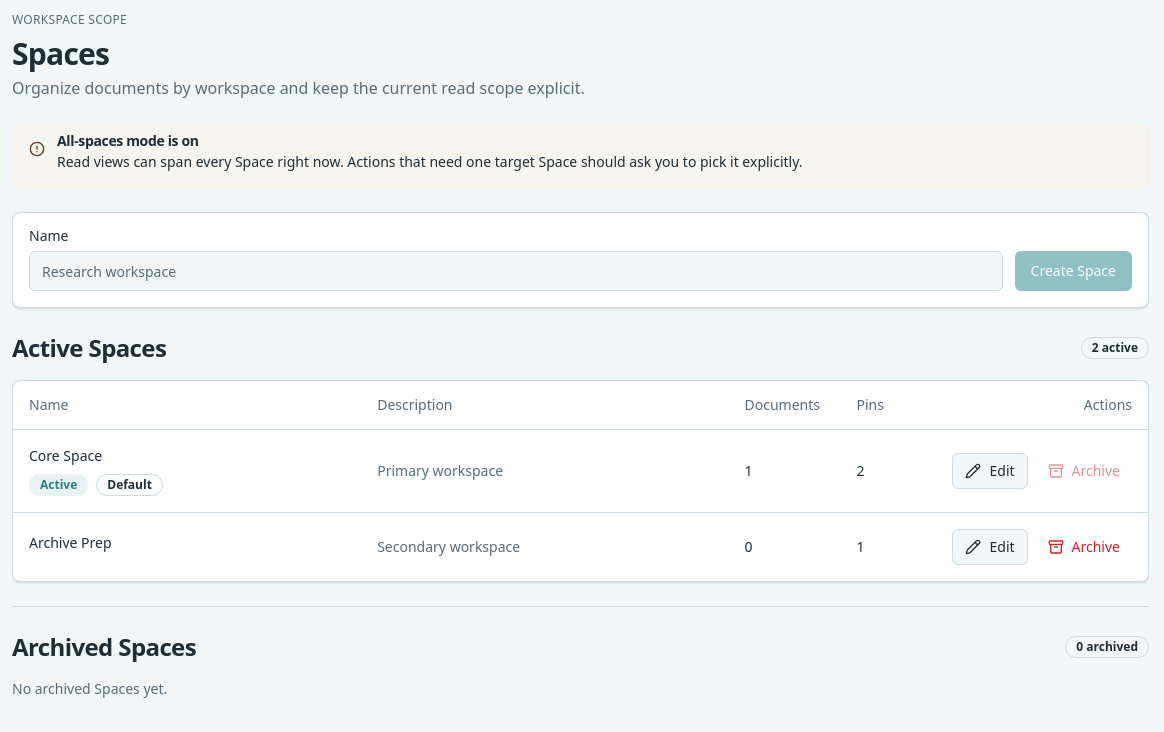
Test: SpacesPage › creates a Space from the inline name-only form and renders active Spaces as a table
Check: the heading "All-spaces mode is on" is shown, box [57,131,199,150]
Check: the text "Core Space" is shown, box [29,446,102,464]
In the field labelled "Name": (516,271) [29,251,1002,291], type "New Space"
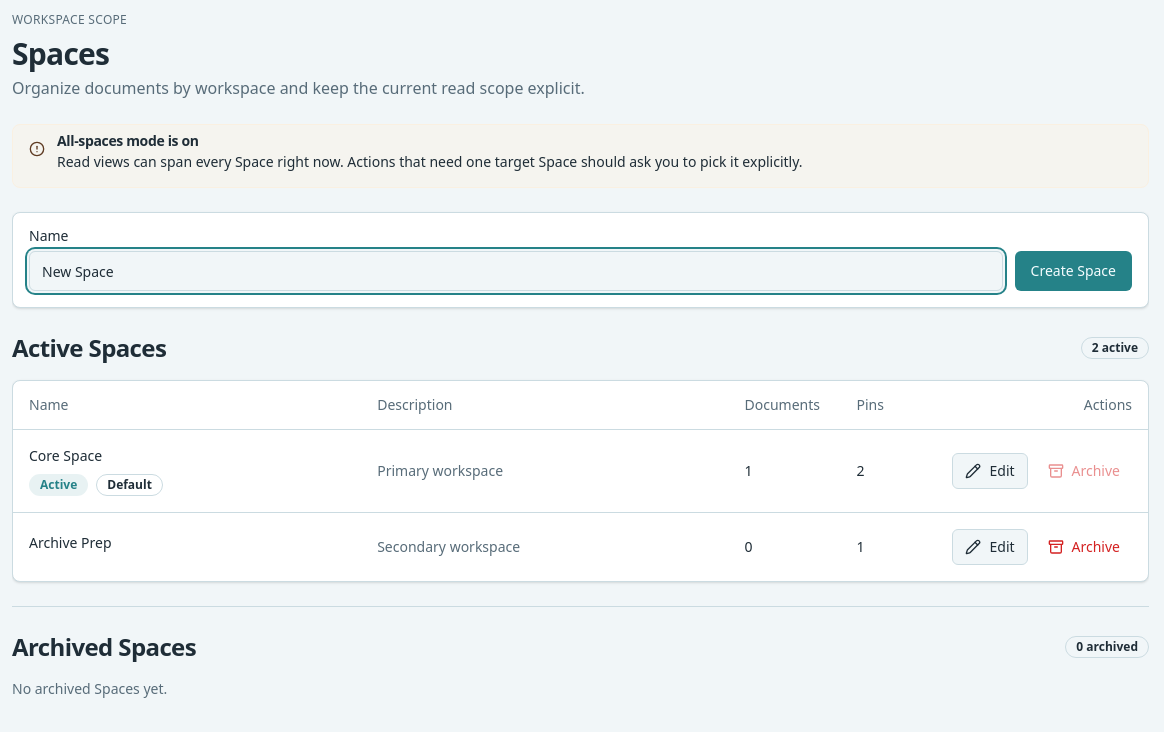
Click the button "Create Space": (1073,271) [1014,251,1132,291]
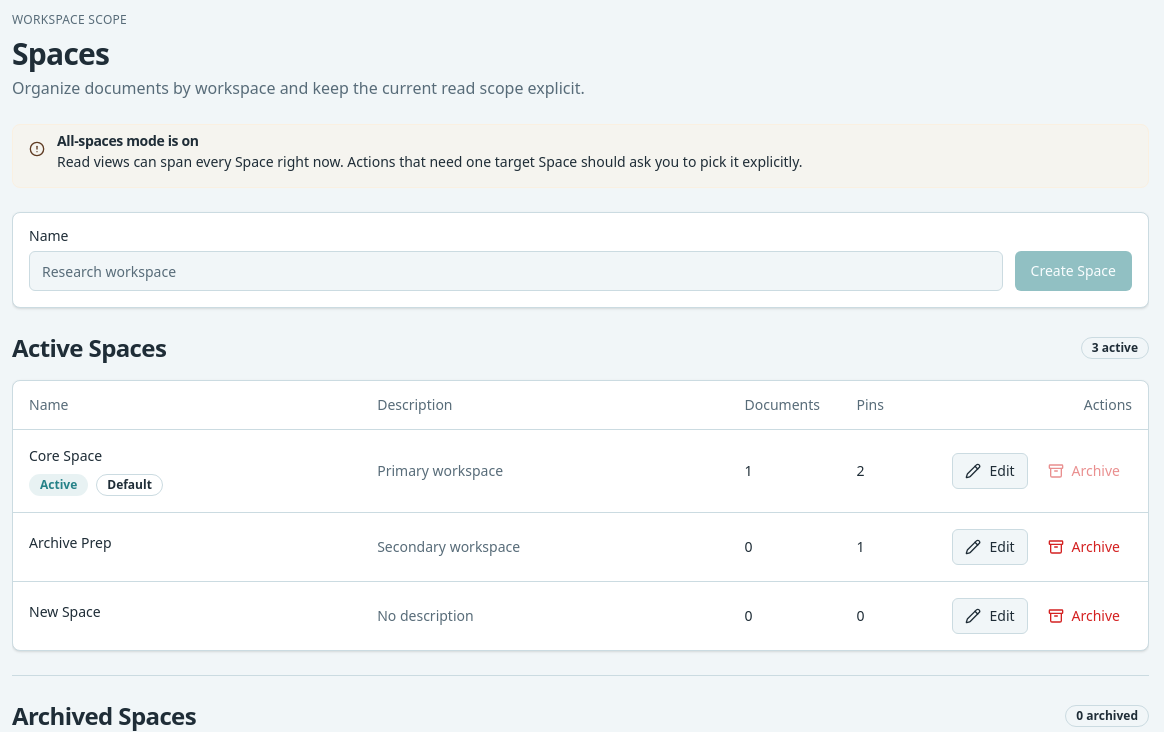
Check: the text "New Space" is shown, box [29,602,101,620]
